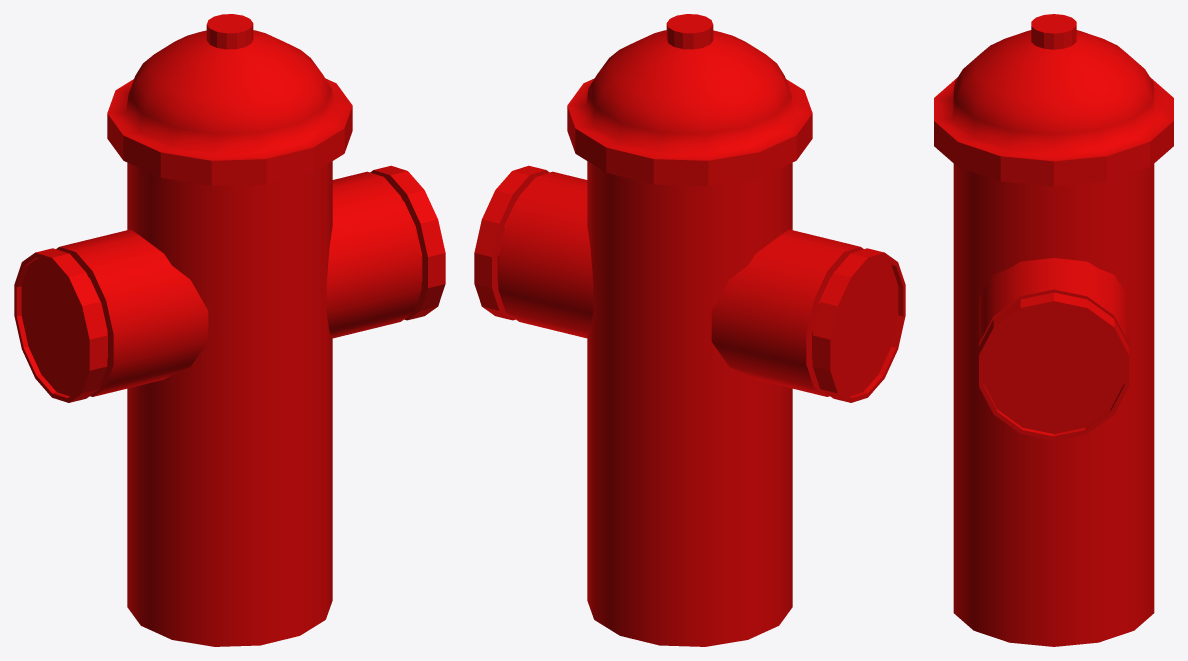
Rendered from SYOUKASEN.fbx.
3 renders of one model, left to right at view 1: azimuth 30°, elevation 25°; view 2: azimuth 150°, elevation 25°; view 3: azimuth 270°, elevation 25°, orthographic.
Parts seen in each view (by area): view 1: SYOUKASEN; view 2: SYOUKASEN; view 3: SYOUKASEN.
Part boxes in pixels (x1,y1,x2,y2): SYOUKASEN: [14, 14, 445, 646]; SYOUKASEN: [474, 14, 905, 646]; SYOUKASEN: [934, 14, 1173, 646].
Bounding box in the file's own units: 0.3073 × 0.4787 × 0.1794.
Materials: 1 (1 with a texture image).
